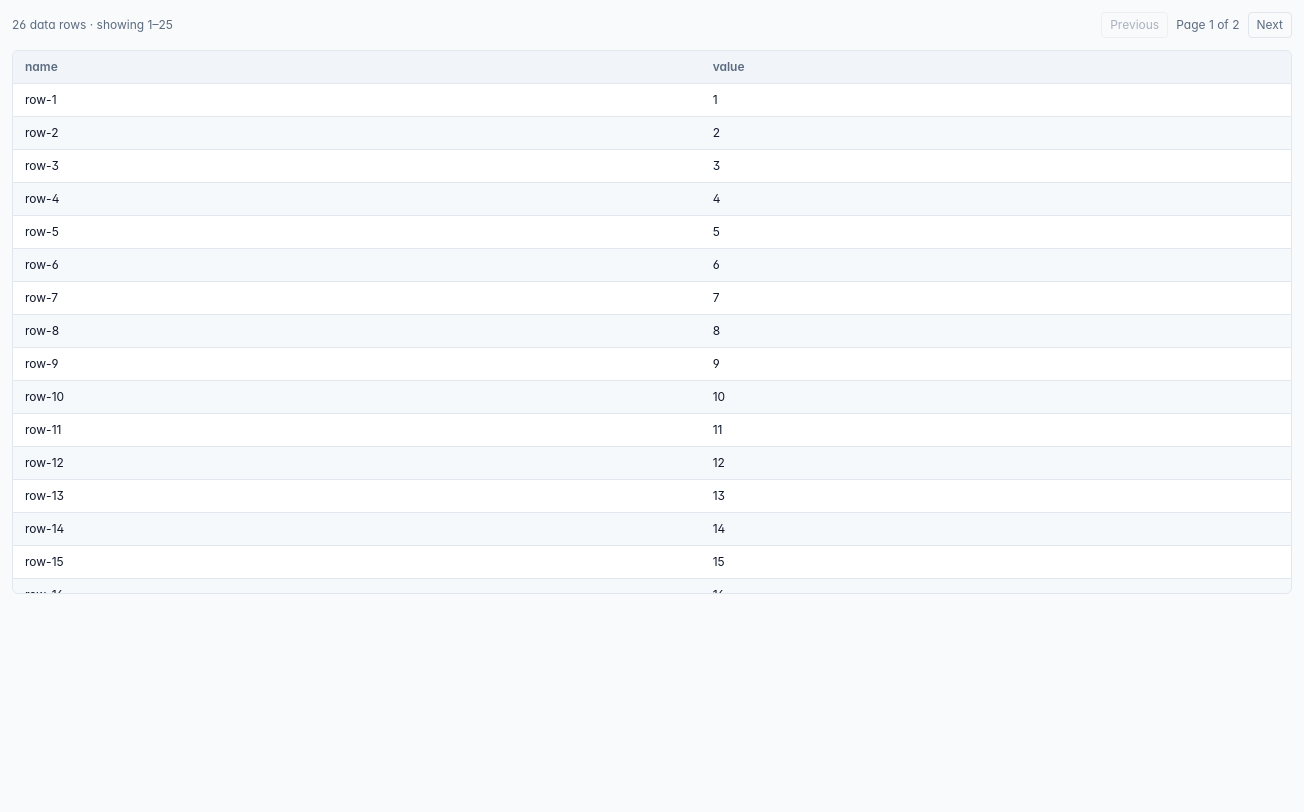
Scenario: ReportPreview › supports full CSV previews with page navigation
Check: the text "26 data rows · showing 1–25" is shown, box [12,17,173,33]
Check: the text "row-1" is shown, box [13,84,701,116]
Click the button "Next". click: (1270, 25)
box: [1248,12,1292,38]
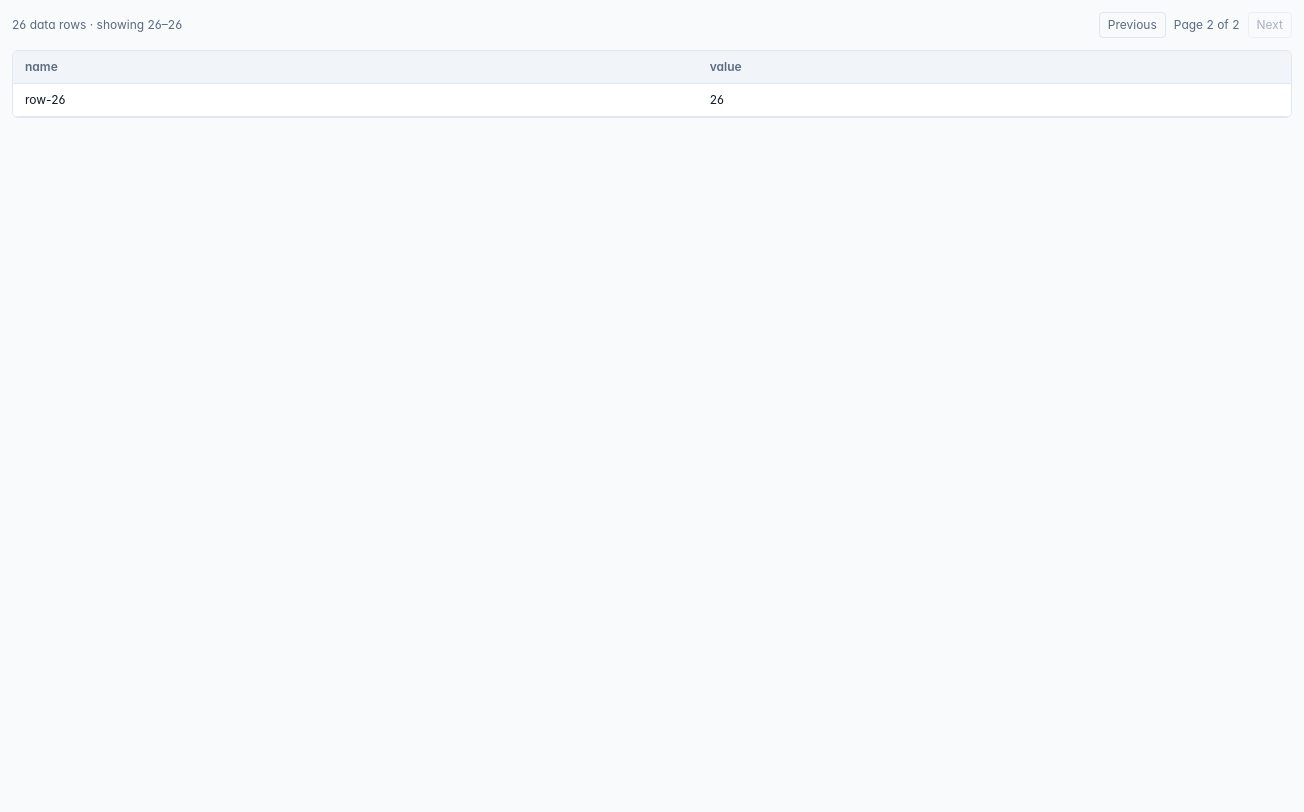
Check: the text "26 data rows · showing 26–26" is shown, box [12,17,182,33]
Check: the text "row-26" is shown, box [13,84,698,116]
